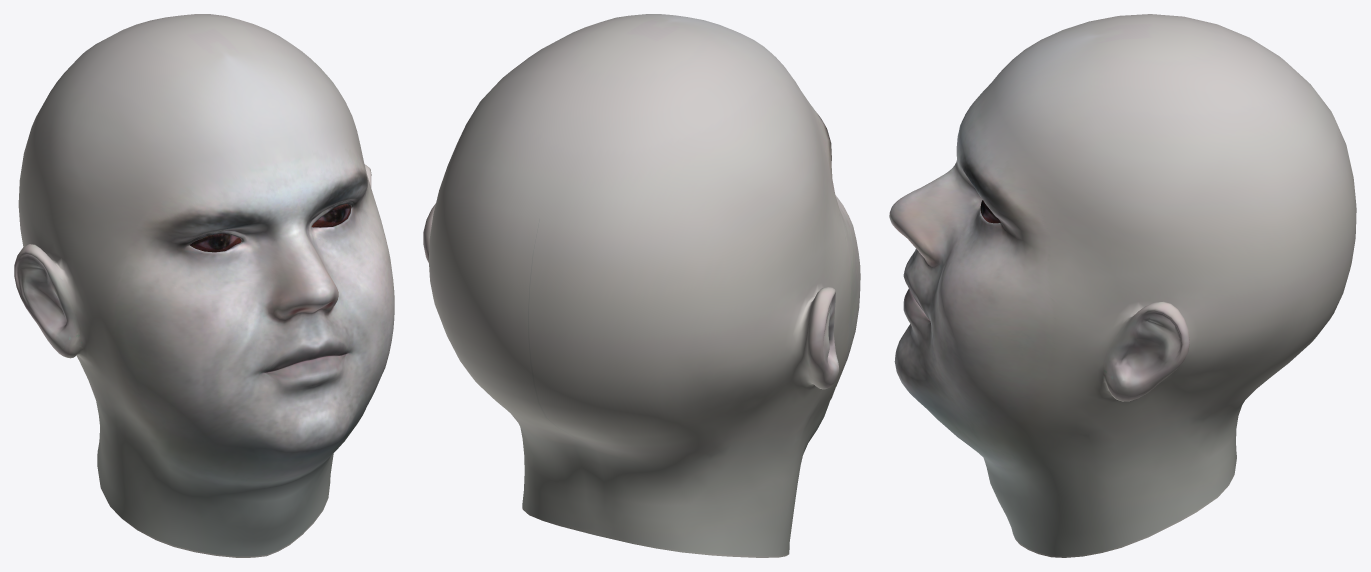
3 views of the same model, side by side, from view 1: azimuth 30°, elevation 25°; view 2: azimuth 150°, elevation 25°; view 3: azimuth 270°, elevation 25° (orthographic). The views are drawn at different scales.
Visible parts, largest first — view 1: skin_hi, eyeR_hi, eyeL_hi; view 2: skin_hi; view 3: skin_hi.
Part boxes in pixels (left/top/right/bottom): skin_hi: left=14, top=14, right=394, bottom=557; eyeR_hi: left=189, top=233, right=241, bottom=252; eyeL_hi: left=312, top=204, right=351, bottom=227; skin_hi: left=423, top=14, right=860, bottom=557; skin_hi: left=889, top=14, right=1356, bottom=557.
Bounding box in the file's own units: 212 × 277 × 233.
